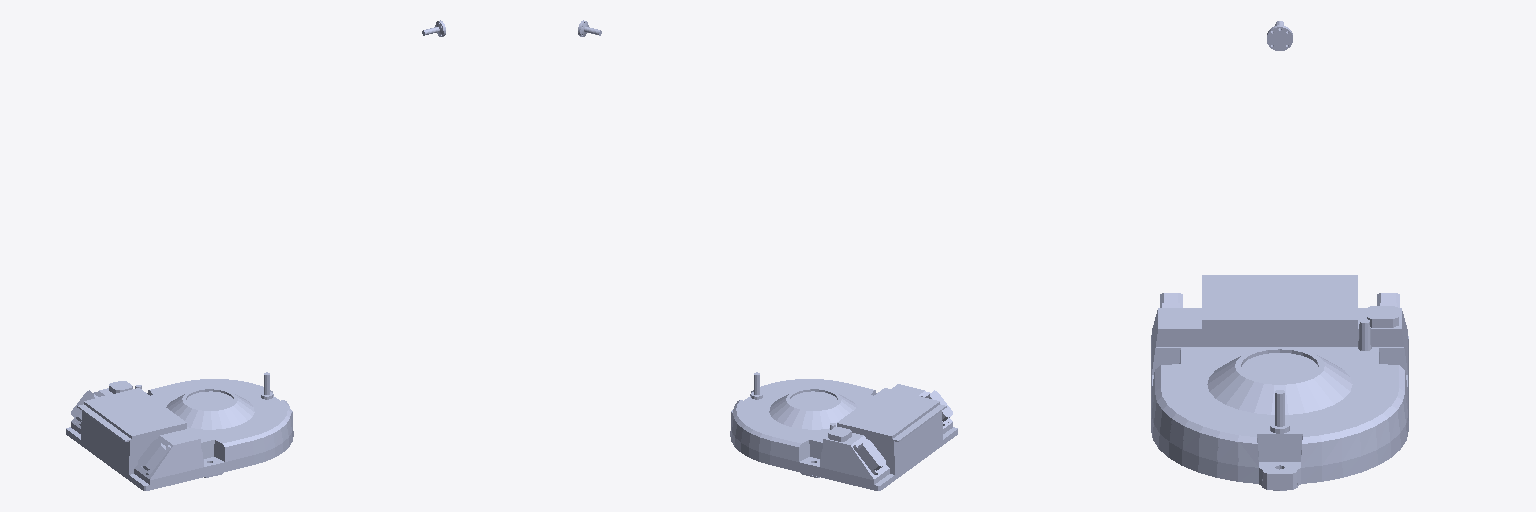
robot.urdf — abb_irb1600_6_145:
<?xml version="1.0" ?>
<!-- =================================================================================== -->
<!-- |    This document was autogenerated by xacro from irb1600_6_145.xacro            | -->
<!-- |    EDITING THIS FILE BY HAND IS NOT RECOMMENDED                                 | -->
<!-- =================================================================================== -->
<robot name="abb_irb1600_6_145" xmlns:xacro="http://ros.org/wiki/xacro">
  <link name="base_link">
    <visual>
      <origin rpy="0 0 0" xyz="0 0 0"/>
      <geometry>
        <mesh filename="package://abb_irb1600_6_145_support/meshes/base_link.stl"/>
      </geometry>
      <material name="">
        <color rgba="0.792156862745098 0.819607843137255 0.933333333333333 1"/>
      </material>
    </visual>
    <collision>
      <origin rpy="0 0 0" xyz="0 0 0"/>
      <geometry>
        <mesh filename="package://abb_irb1600_6_145_support/meshes/base_link.stl"/>
      </geometry>
    </collision>
  </link>
  <link name="link_1">
    <visual>
      <origin rpy="0 0 0" xyz="0 0 0"/>
      <geometry>
        <mesh filename="package://abb_irb1600_6_145_support/meshes/link_1.stl"/>
      </geometry>
      <material name="">
        <color rgba="0.792156862745098 0.819607843137255 0.933333333333333 1"/>
      </material>
    </visual>
    <collision>
      <origin rpy="0 0 0" xyz="0 0 0"/>
      <geometry>
        <mesh filename="package://abb_irb1600_6_145_support/meshes/link_1.stl"/>
      </geometry>
    </collision>
  </link>
  <link name="link_2">
    <visual>
      <origin rpy="0 0 0" xyz="0 0 0"/>
      <geometry>
        <mesh filename="package://abb_irb1600_6_145_support/meshes/link_2.stl"/>
      </geometry>
      <material name="">
        <color rgba="0.792156862745098 0.819607843137255 0.933333333333333 1"/>
      </material>
    </visual>
    <collision>
      <origin rpy="0 0 0" xyz="0 0 0"/>
      <geometry>
        <mesh filename="package://abb_irb1600_6_145_support/meshes/link_2.stl"/>
      </geometry>
    </collision>
  </link>
  <link name="link_3">
    <visual>
      <origin rpy="0 0 0" xyz="0 0 0"/>
      <geometry>
        <mesh filename="package://abb_irb1600_6_145_support/meshes/link_3.stl"/>
      </geometry>
      <material name="">
        <color rgba="0.792156862745098 0.819607843137255 0.933333333333333 1"/>
      </material>
    </visual>
    <collision>
      <origin rpy="0 0 0" xyz="0 0 0"/>
      <geometry>
        <mesh filename="package://abb_irb1600_6_145_support/meshes/link_3.stl"/>
      </geometry>
    </collision>
  </link>
  <link name="link_4">
    <visual>
      <origin rpy="0 0 0" xyz="0 0 0"/>
      <geometry>
        <mesh filename="package://abb_irb1600_6_145_support/meshes/link_4.stl"/>
      </geometry>
      <material name="">
        <color rgba="0.792156862745098 0.819607843137255 0.933333333333333 1"/>
      </material>
    </visual>
    <collision>
      <origin rpy="0 0 0" xyz="0 0 0"/>
      <geometry>
        <mesh filename="package://abb_irb1600_6_145_support/meshes/link_4.stl"/>
      </geometry>
    </collision>
  </link>
  <link name="link_5">
    <visual>
      <origin rpy="0 0 0" xyz="0 0 0"/>
      <geometry>
        <mesh filename="package://abb_irb1600_6_145_support/meshes/link_5.stl"/>
      </geometry>
      <material name="">
        <color rgba="0.792156862745098 0.819607843137255 0.933333333333333 1"/>
      </material>
    </visual>
    <collision>
      <origin rpy="0 0 0" xyz="0 0 0"/>
      <geometry>
        <mesh filename="package://abb_irb1600_6_145_support/meshes/link_5.stl"/>
      </geometry>
    </collision>
  </link>
  <link name="link_6">
    <visual>
      <origin rpy="0 0 0" xyz="0 0 0"/>
      <geometry>
        <mesh filename="package://abb_irb1600_6_145_support/meshes/link_6.stl"/>
      </geometry>
      <material name="">
        <color rgba="0.792156862745098 0.819607843137255 0.933333333333333 1"/>
      </material>
    </visual>
    <collision>
      <origin rpy="0 0 0" xyz="0 0 0"/>
      <geometry>
        <mesh filename="package://abb_irb1600_6_145_support/meshes/link_6.stl"/>
      </geometry>
    </collision>
  </link>
  <link name="tool0"/>
  <joint name="joint_1" type="revolute">
    <origin rpy="0 0 0" xyz="0 0 0.1245"/>
    <parent link="base_link"/>
    <child link="link_1"/>
    <axis xyz="0 0 1"/>
    <limit effort="0" lower="-3.1416" upper="3.1416" velocity="2.618"/>
  </joint>
  <joint name="joint_2" type="revolute">
    <origin rpy="0 0 0" xyz="0.15 0 0.36199"/>
    <parent link="link_1"/>
    <child link="link_2"/>
    <axis xyz="0 -1 0"/>
    <limit effort="0" lower="-1.5708" upper="2.618" velocity="2.7925"/>
  </joint>
  <joint name="joint_3" type="revolute">
    <origin rpy="0 0 0" xyz="0 0 0.70001"/>
    <parent link="link_2"/>
    <child link="link_3"/>
    <axis xyz="0 1 0"/>
    <limit effort="0" lower="-4.2760566674" upper="1.1345" velocity="2.967059728"/>
  </joint>
  <joint name="joint_4" type="revolute">
    <origin rpy="0 0 0" xyz="0.314 0 0"/>
    <parent link="link_3"/>
    <child link="link_4"/>
    <axis xyz="-1 0 0"/>
    <limit effort="0" lower="-3.490658504" upper="3.490658504" velocity="5.585053606"/>
  </joint>
  <joint name="joint_5" type="revolute">
    <origin rpy="0 0 0" xyz="0.286 0 0"/>
    <parent link="link_4"/>
    <child link="link_5"/>
    <axis xyz="0 1 0"/>
    <limit effort="0" lower="-2.0071286398" upper="2.0071286398" velocity="6.981317008"/>
  </joint>
  <joint name="joint_6" type="revolute">
    <origin rpy="0 0 0" xyz="0 0 0"/>
    <parent link="link_5"/>
    <child link="link_6"/>
    <axis xyz="0 0 0"/>
    <limit effort="0" lower="-6.9813" upper="6.9813" velocity="8.0285"/>
  </joint>
  <joint name="joint_6-tool0" type="fixed">
    <origin rpy="0 0 0" xyz="0.065 0 -0.00030657"/>
    <parent link="link_6"/>
    <child link="tool0"/>
    <axis xyz="0 0 0"/>
  </joint>
</robot>

--- Render facts (derived) ---
3 views of the same robot in one strip: view 1: azimuth 30°, elevation 25°; view 2: azimuth 150°, elevation 25°; view 3: azimuth 270°, elevation 25° (orthographic).
Robot: abb_irb1600_6_145 — 8 links, 7 joints (6 revolute, 1 fixed); root link base_link; default pose: every joint at zero.
Visible links, largest first — view 1: base_link; view 2: base_link; view 3: base_link, link_6.
Boxes of the visible links, box(x1,y1,x2,y2) form: base_link: box(66, 372, 293, 490); base_link: box(730, 372, 957, 490); base_link: box(1151, 275, 1408, 490); link_6: box(1267, 21, 1292, 50).
Size in the robot's own frame: 1.2 by 0.4833 by 1.21 metres.
Meshes: 7 distinct files referenced, 2 mesh visuals loaded (2 binary STL); not drawn: 5 (reference not matched to a file when rendering).